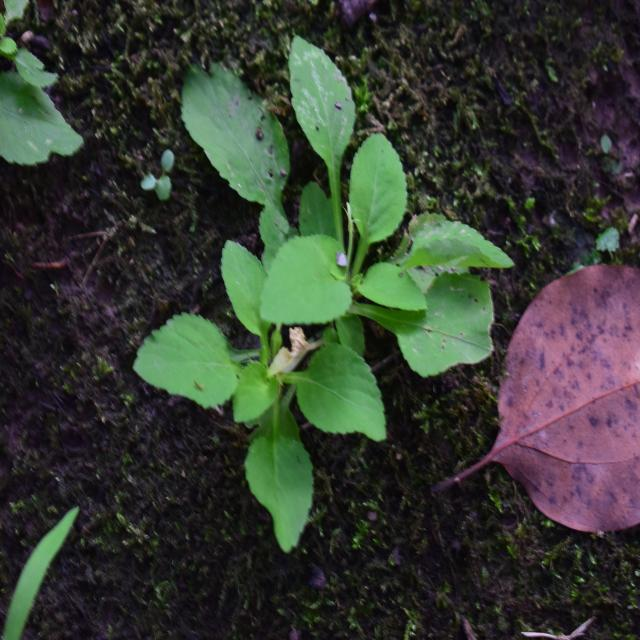Viola: (158, 62, 470, 452)
